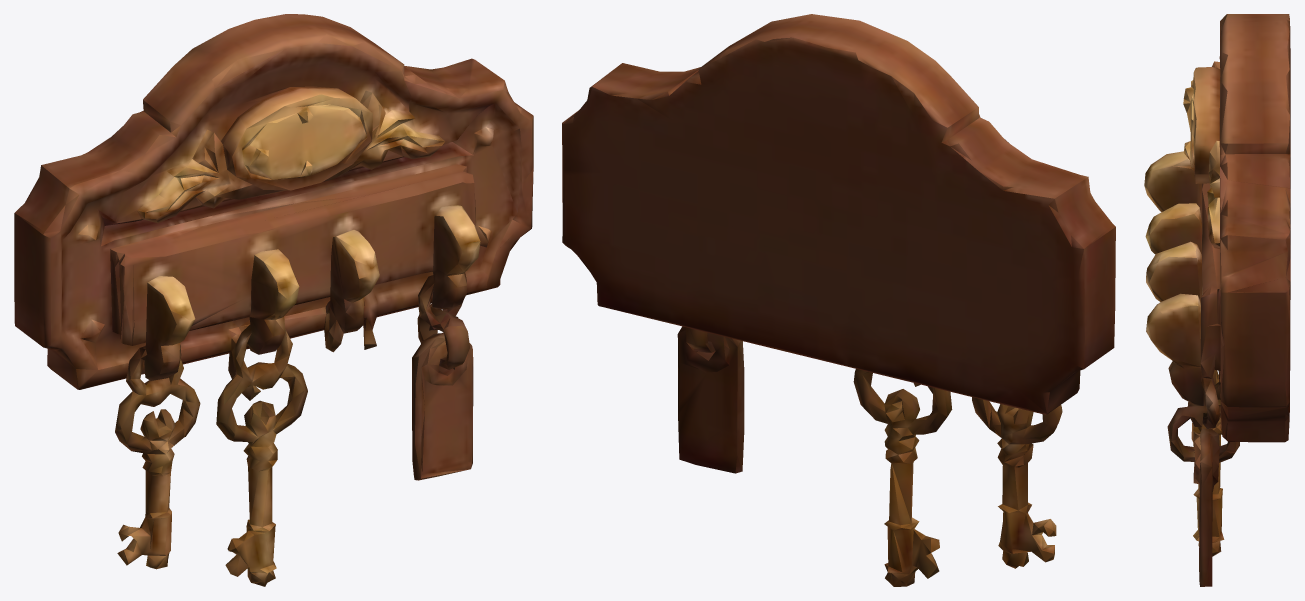
The model's file is wall14.glb.
3 views of the same model, side by side, from view 1: azimuth 30°, elevation 25°; view 2: azimuth 150°, elevation 25°; view 3: azimuth 270°, elevation 25° (orthographic). The views are drawn at different scales.
Size of the model in its own units: 0.221 by 0.2279 by 0.0559.
1 material, 1 textured.
